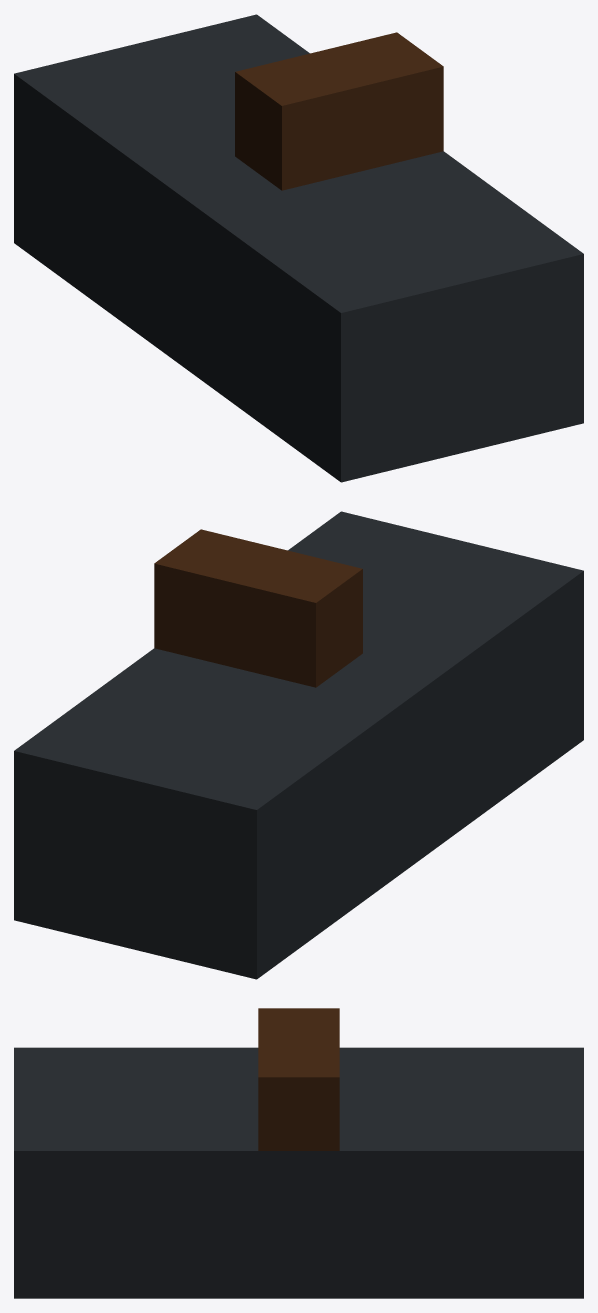
Rendered from mystic_uncommon_boot_foot_L_lod1.glb.
3 views of the same model, one above another, from view 1: azimuth 30°, elevation 25°; view 2: azimuth 150°, elevation 25°; view 3: azimuth 270°, elevation 25° (orthographic). The views are drawn at different scales.
Visible parts, largest first — view 1: mystic_uncommon_boot_foot_L_lod1; view 2: mystic_uncommon_boot_foot_L_lod1; view 3: mystic_uncommon_boot_foot_L_lod1.
Boxes of the visible parts, bbox=[...] form: mystic_uncommon_boot_foot_L_lod1: bbox=[14, 14, 583, 482]; mystic_uncommon_boot_foot_L_lod1: bbox=[14, 511, 583, 979]; mystic_uncommon_boot_foot_L_lod1: bbox=[14, 1008, 583, 1298].
Bounding box in the file's own units: 0.144 × 0.144 × 0.336.
